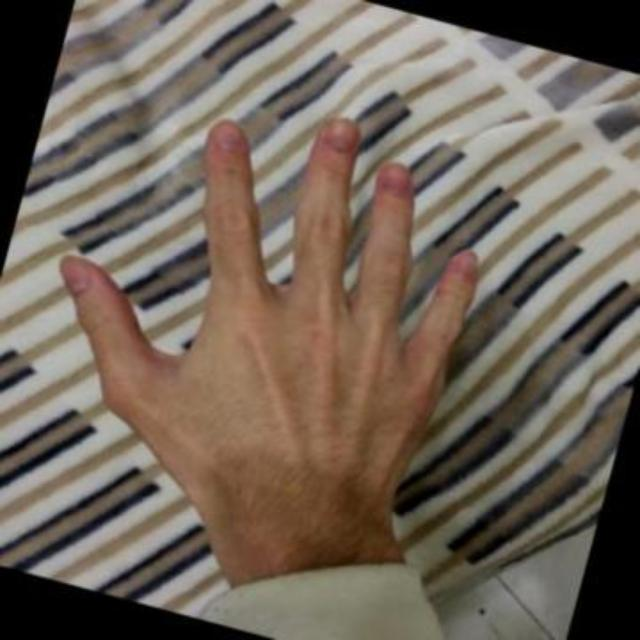bare_hand: (56, 113, 480, 513)
